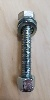FinishedAssembly: (16, 8, 38, 95)
